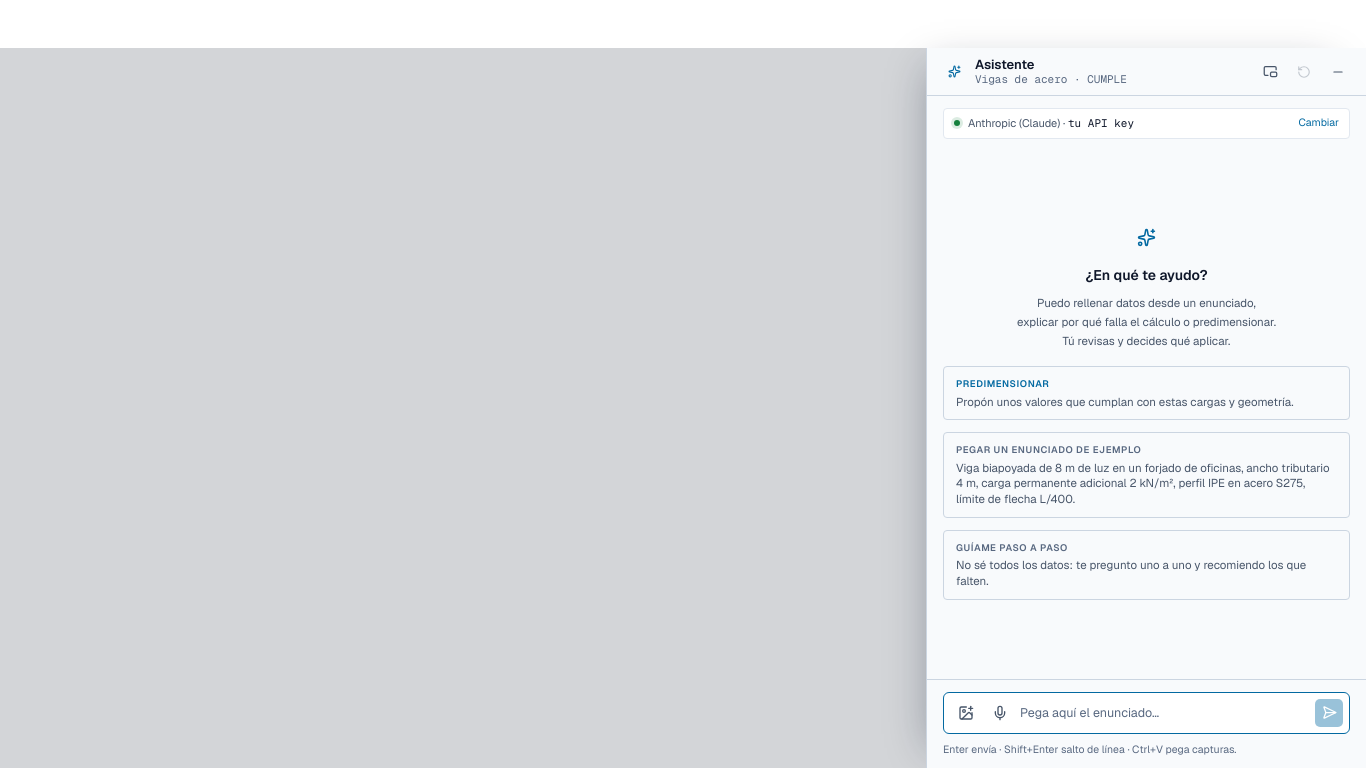
Test case: AiChatModal — dictado por voz › con SpeechRecognition: aparece el micro y al pulsarlo arranca la escucha (es-ES, continuo)
The width and height of the screenshot is (1366, 768).
Click the button named "Dictar por voz": (1000, 713) [986, 699, 1014, 727]
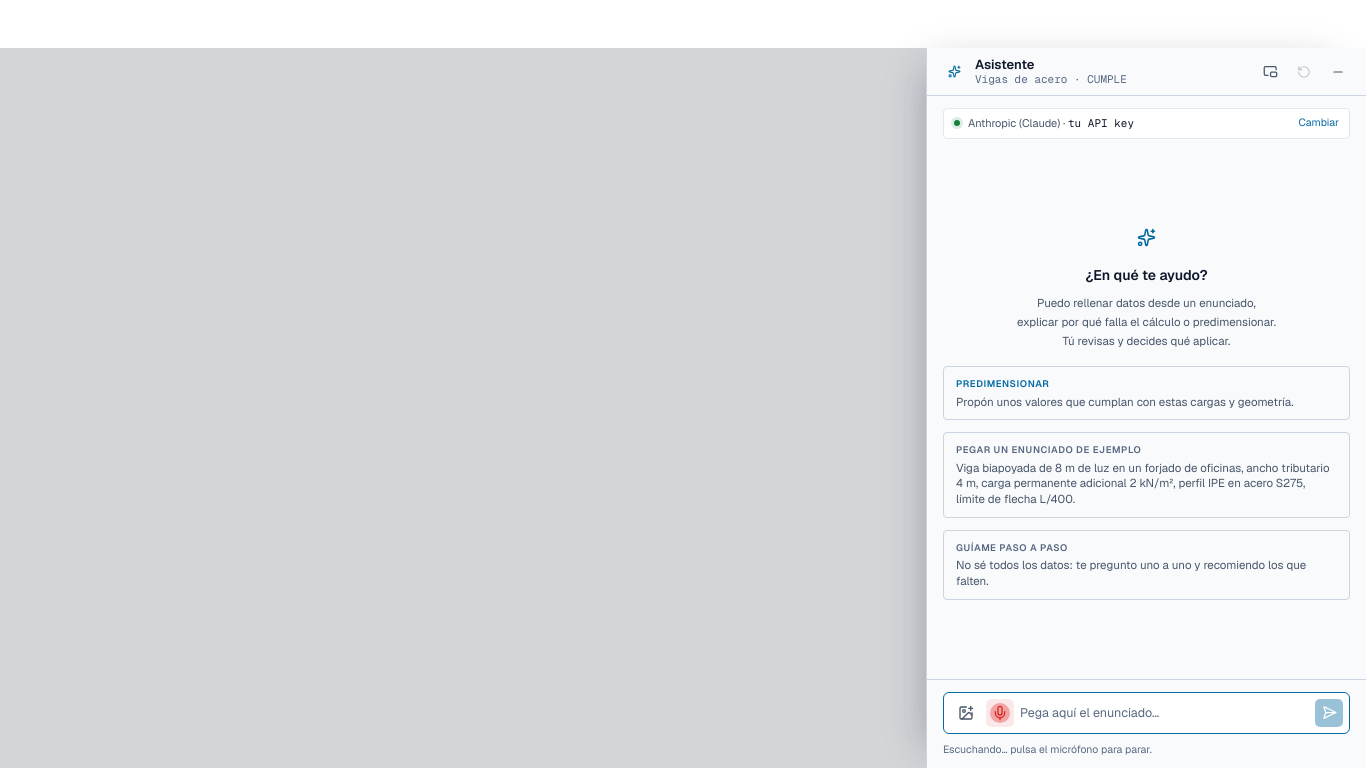
Expected: the text "Escuchando… pulsa el micrófono para parar." is shown, [943, 742, 1152, 756]
